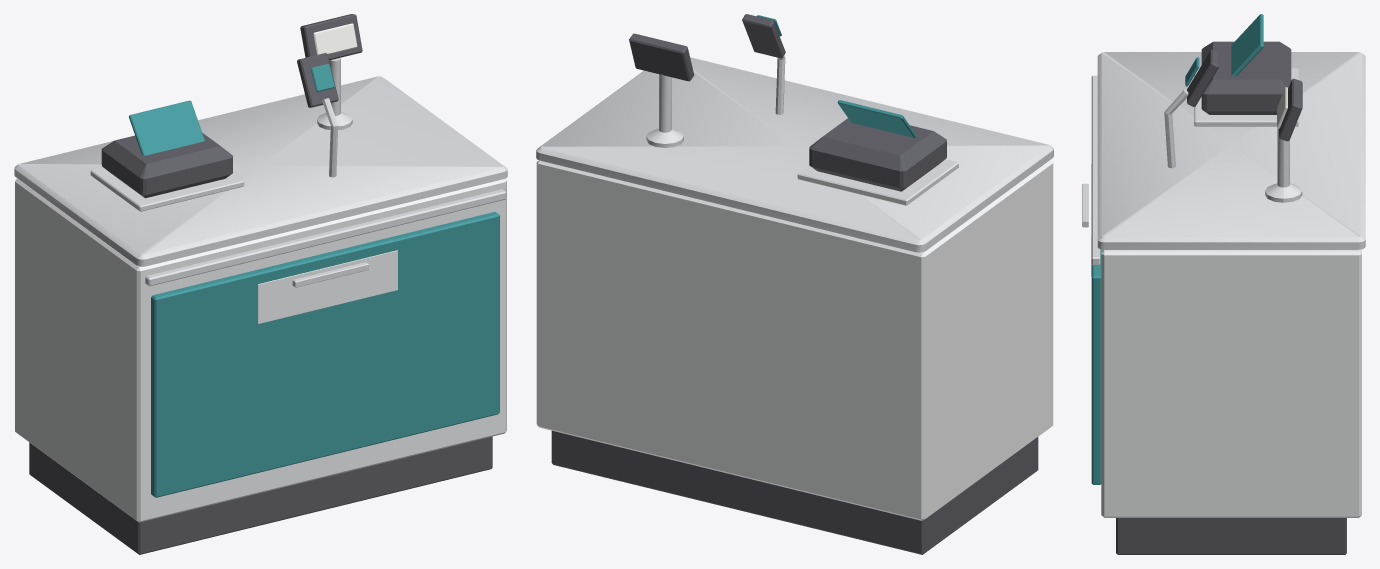
Rendered from dry-cleaners-and-alterations-shop-service-counter-modu-db41aab9__34935.glb.
3 views of the same model, side by side, from view 1: azimuth 30°, elevation 25°; view 2: azimuth 150°, elevation 25°; view 3: azimuth 270°, elevation 25° (orthographic). The views are drawn at different scales.
Parts seen in each view (by area): view 1: service-counter-module, till-drawer/panel, till-drawer/metal; view 2: service-counter-module; view 3: service-counter-module.
Boxes of the visible parts, x1=… form: service-counter-module: x1=14, y1=14, x2=507, y2=554; till-drawer/panel: x1=258, y1=250, x2=397, y2=323; till-drawer/metal: x1=292, y1=262, x2=368, y2=287; service-counter-module: x1=536, y1=14, x2=1053, y2=554; service-counter-module: x1=1091, y1=14, x2=1365, y2=554.
Bounding box in the file's own units: 1.2 × 1.28 × 0.7608.
